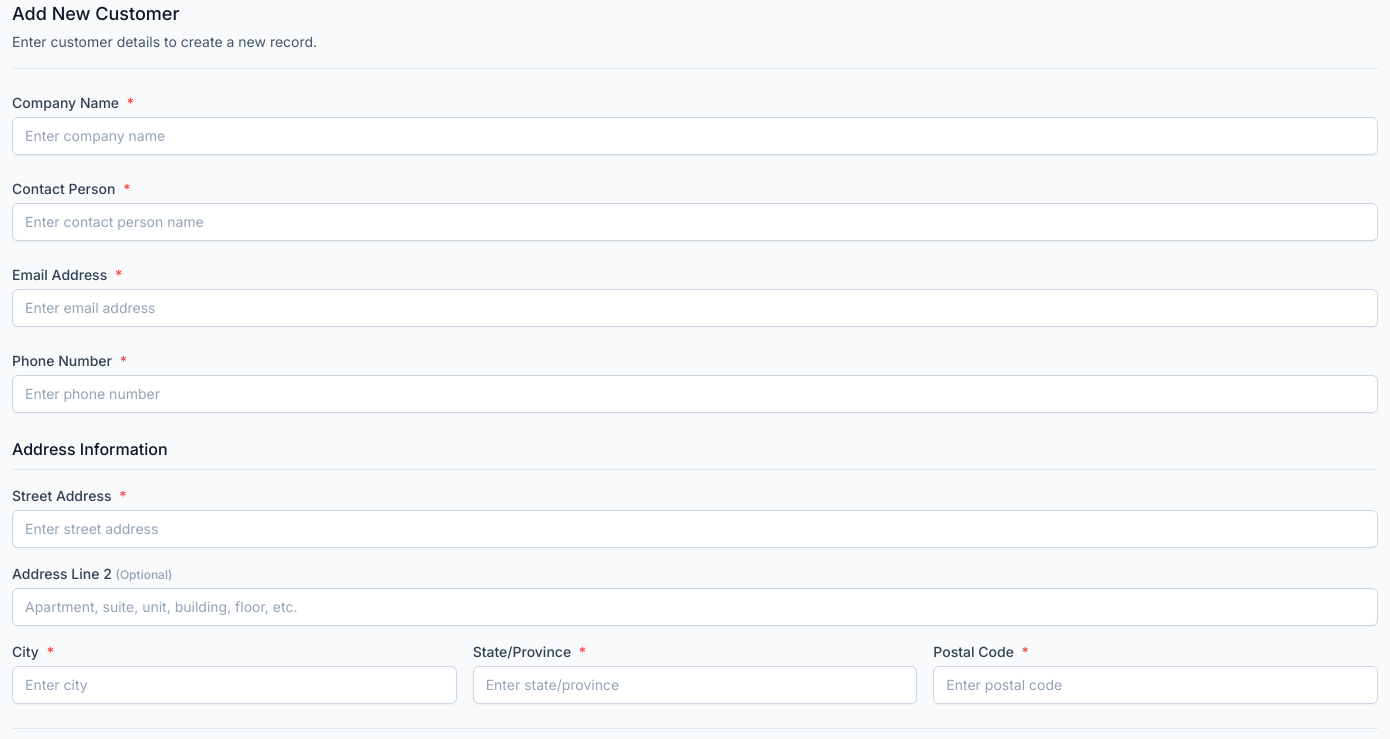
Test: CustomerForm.vue › Form Validation › displays general error message for non-validation errors
// Fill form and submit
Type "Test Company" into the field with id "name" at (695, 136), box left=12, top=117, right=1378, bottom=155
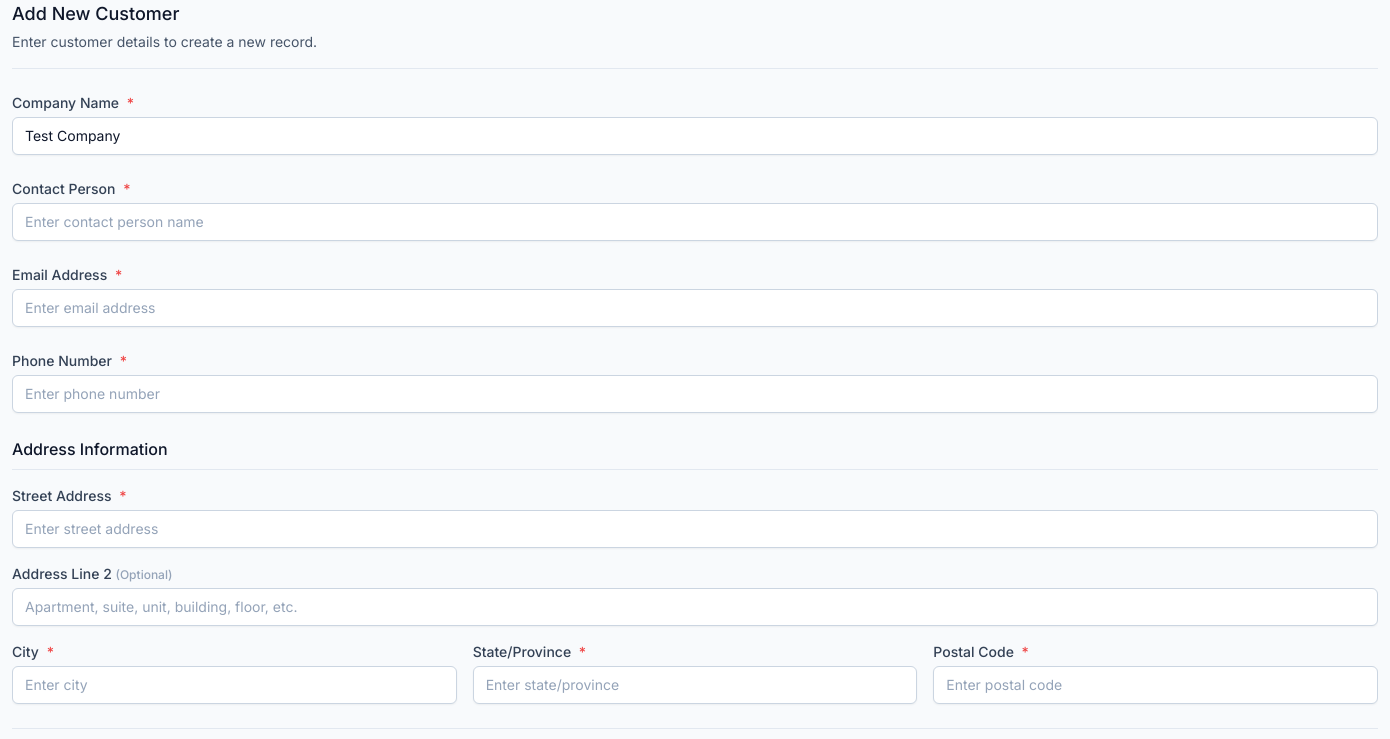
Type "John Doe" into the field with id "contact_person" at (695, 222), box left=12, top=203, right=1378, bottom=241
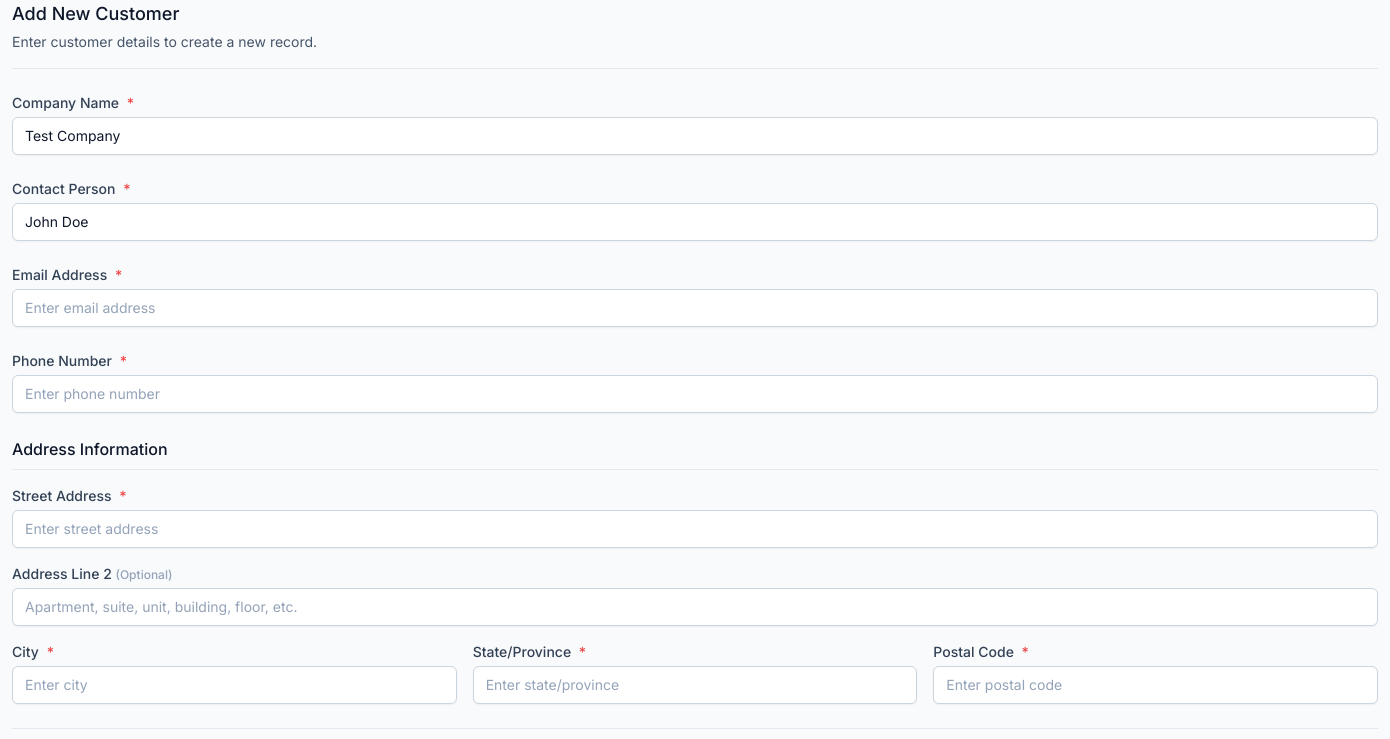
Type "john@test.com" into the field with id "email" at (695, 308), box left=12, top=289, right=1378, bottom=327
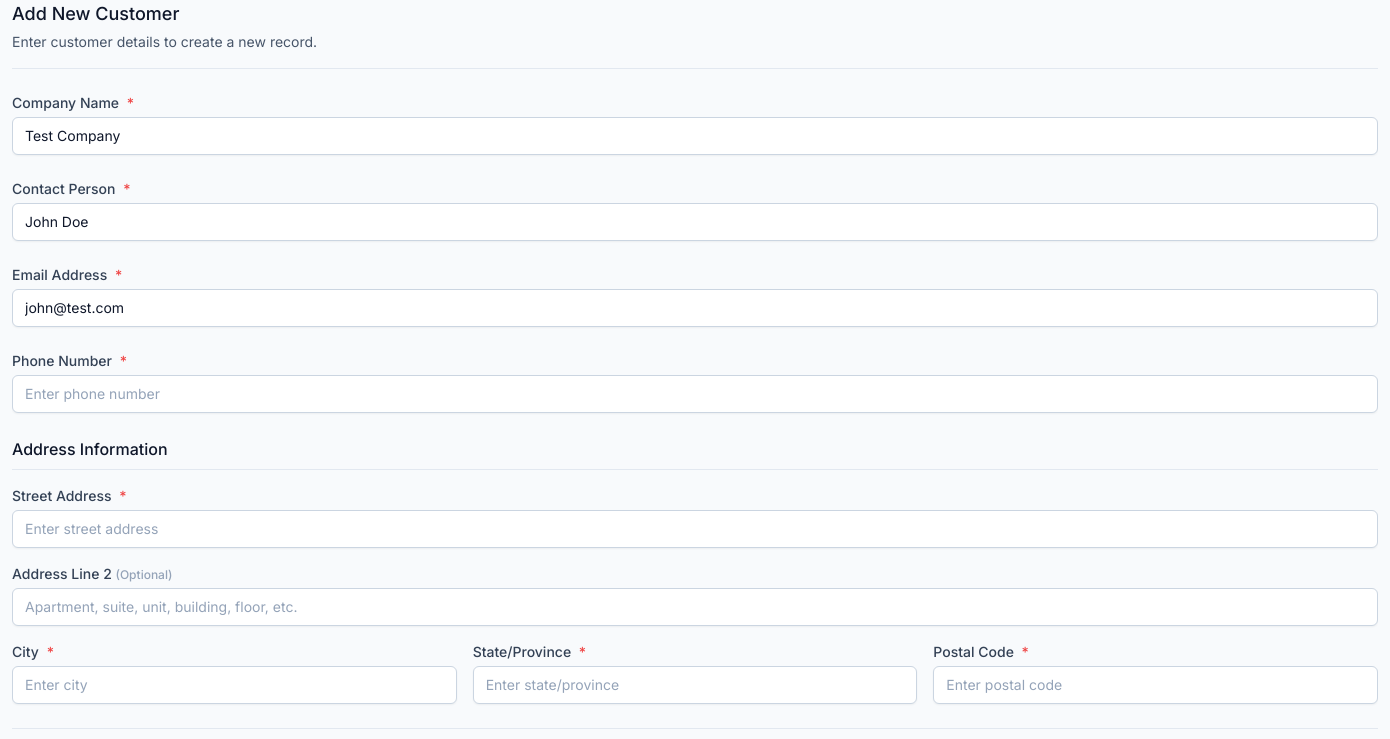
Type "123-456-7890" into the field labelled "Phone Number *" at (695, 394), box left=12, top=375, right=1378, bottom=413
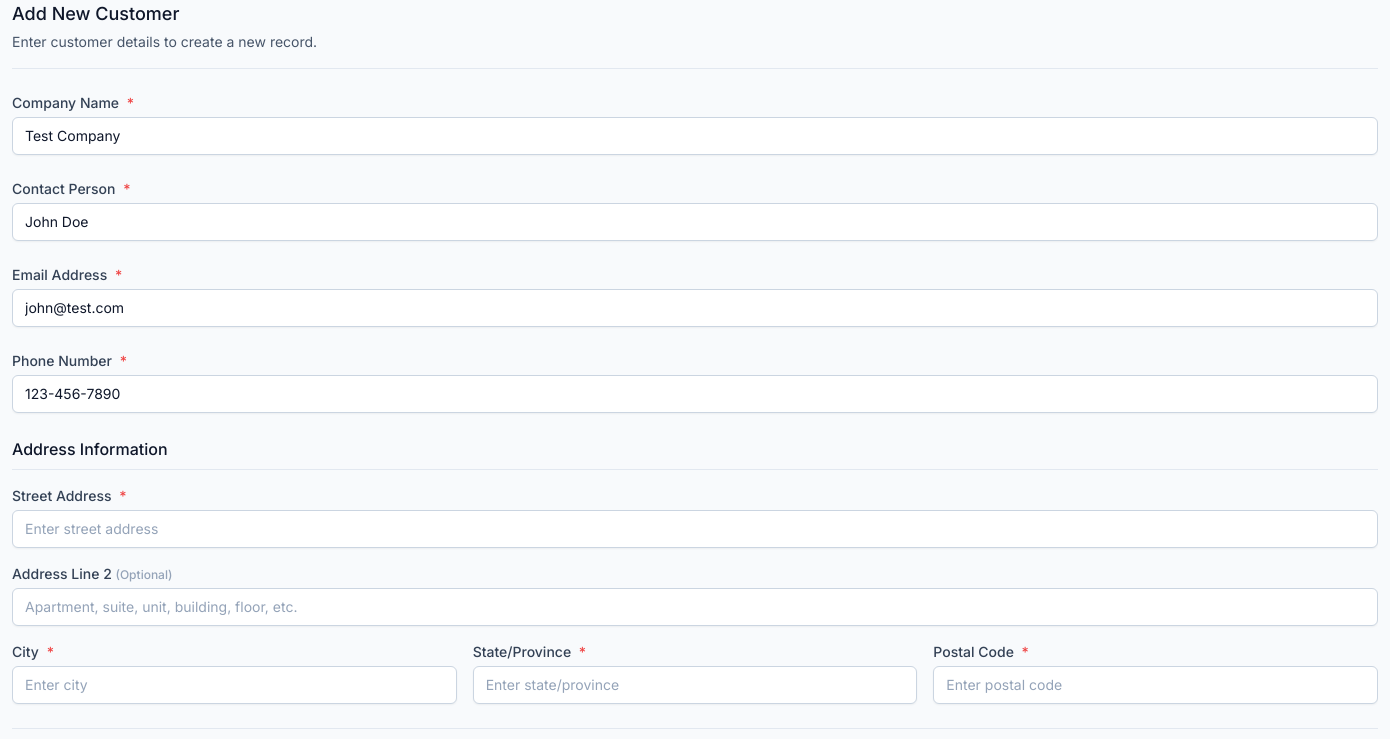
Type "123 Test St" into the field with id "address" at (695, 529), box left=12, top=510, right=1378, bottom=548
(page scrolled)
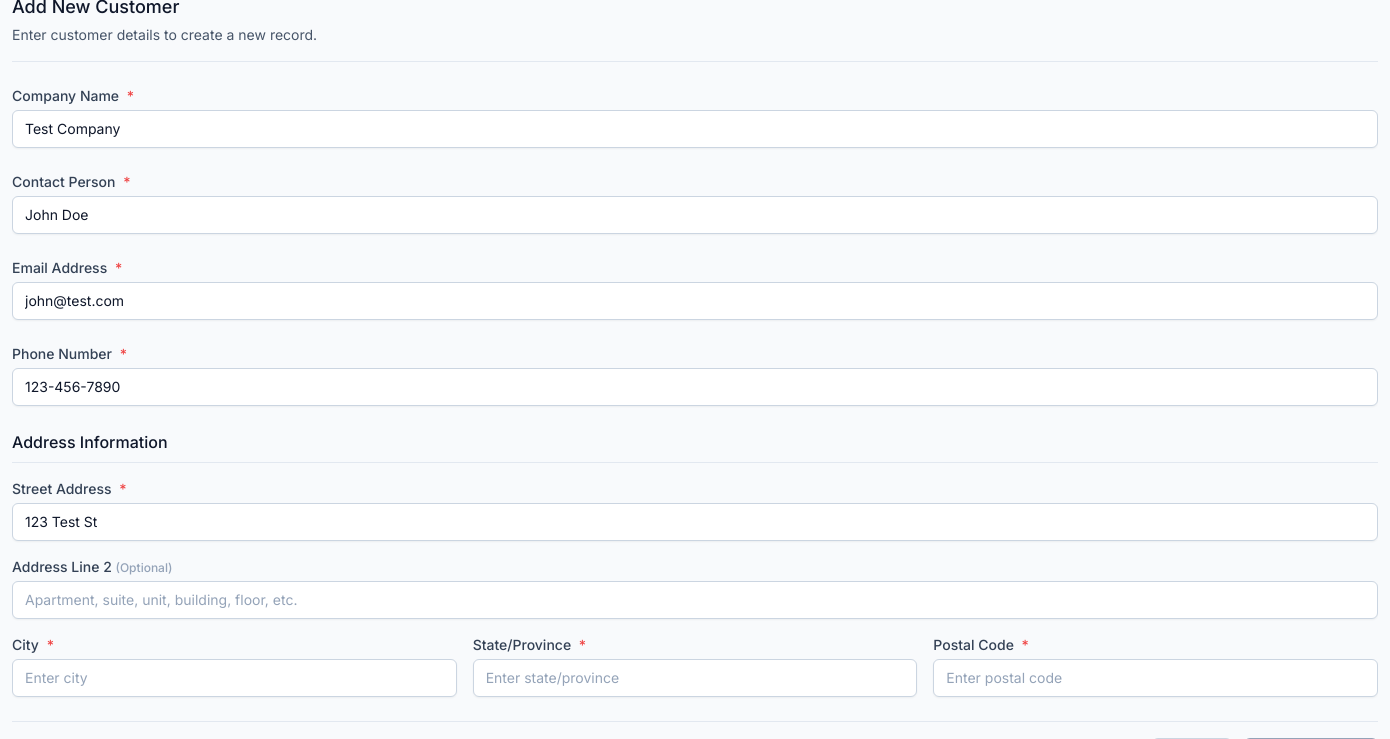
Submit the form
(page scrolled)
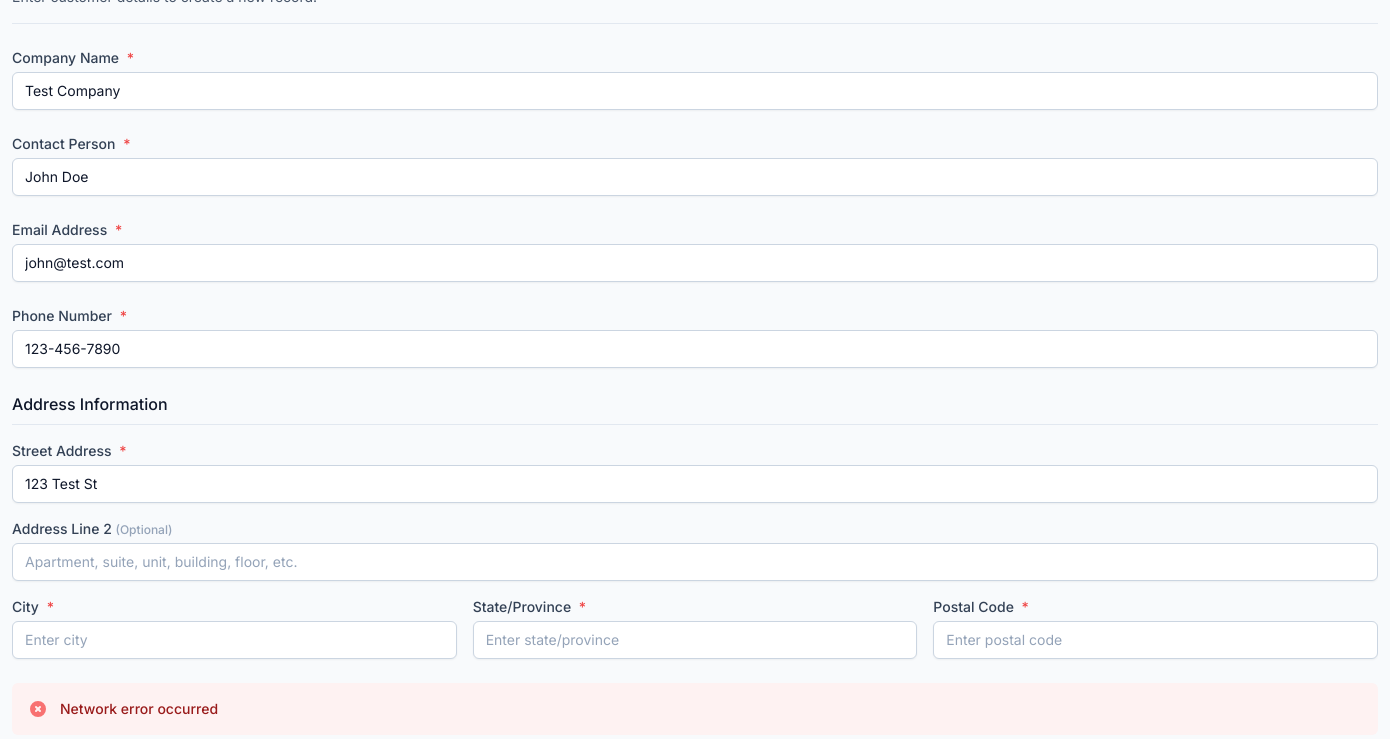
Check: the form shows "Network error occurred", box left=60, top=700, right=218, bottom=717
